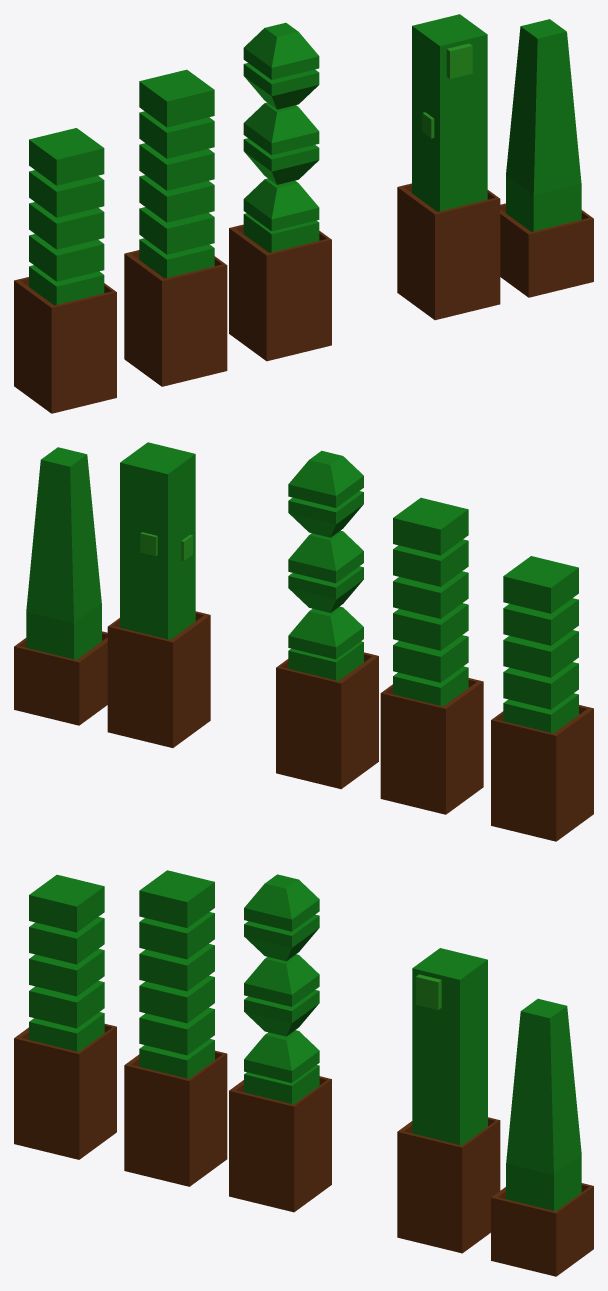
Rendered from trees.fbx.
3 views of the same model, one above another, from view 1: azimuth 30°, elevation 25°; view 2: azimuth 150°, elevation 25°; view 3: azimuth 330°, elevation 25° (orthographic).
Parts seen in each view (by area): view 1: Cube.005, Cube.001, Cube.015, Cube, Cube.008, Cube.028, Cube.006, Cube.021, Cube.024, Cube.012, Cube.009, Cube.011 (+13 smaller); view 2: Cube.001, Cube.005, Cube.015, Cube, Cube.028, Cube.008, Cube.006, Cube.021, Cube.024, Cube.012, Cube.009, Cube.011 (+12 smaller); view 3: Cube.001, Cube.005, Cube.015, Cube.008, Cube.028, Cube, Cube.006, Cube.021, Cube.024, Cube.012, Cube.009, Cube.011 (+13 smaller).
Boxes of the visible parts, x1,y1,x2,y2 form: Cube.005: [506, 19, 581, 231]; Cube.001: [412, 14, 487, 211]; Cube.015: [124, 250, 227, 386]; Cube: [397, 183, 500, 320]; Cube.008: [229, 224, 331, 361]; Cube.028: [14, 277, 116, 413]; Cube.006: [500, 203, 593, 297]; Cube.021: [139, 69, 214, 127]; Cube.024: [29, 128, 104, 185]; Cube.012: [243, 22, 319, 79]; Cube.009: [243, 178, 319, 231]; Cube.011: [243, 102, 319, 155]; Cube.001: [120, 442, 195, 639]; Cube.005: [26, 447, 101, 659]; Cube.015: [380, 678, 483, 814]; Cube: [107, 611, 210, 747]; Cube.028: [491, 705, 593, 841]; Cube.008: [276, 652, 378, 789]; Cube.006: [14, 631, 107, 725]; Cube.021: [393, 497, 468, 555]; Cube.024: [503, 556, 578, 613]; Cube.012: [288, 450, 363, 507]; Cube.009: [288, 606, 363, 659]; Cube.011: [288, 530, 363, 583]; Cube.001: [412, 948, 487, 1145]; Cube.005: [506, 998, 581, 1211]; Cube.015: [124, 1050, 227, 1186]; Cube.008: [229, 1076, 331, 1212]; Cube.028: [14, 1024, 116, 1159]; Cube: [397, 1117, 500, 1253]; Cube.006: [491, 1183, 593, 1276]; Cube.021: [139, 870, 214, 927]; Cube.024: [29, 874, 104, 932]; Cube.012: [244, 874, 319, 931]; Cube.009: [244, 1030, 319, 1082]; Cube.011: [244, 954, 319, 1006].
Size of the model in its own units: 1662 by 907 by 200.
